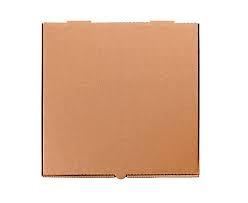Cardboard: (20, 9, 224, 191)
